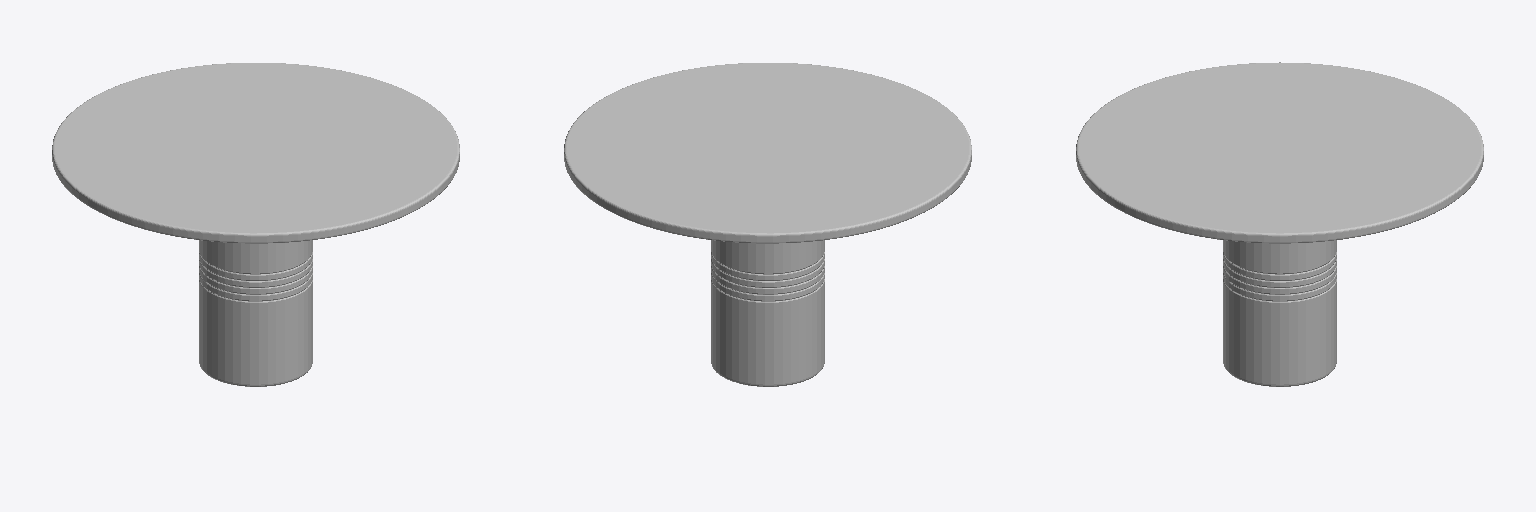
File: Table 110.obj
3 renders of one model, left to right at view 1: azimuth 30°, elevation 25°; view 2: azimuth 150°, elevation 25°; view 3: azimuth 270°, elevation 25°, orthographic.
Visible parts, largest first — view 1: Table_110; view 2: Table_110; view 3: Table_110.
Part boxes in pixels (x1,y1,x2,y2): Table_110: (52,63,459,386); Table_110: (564,63,971,386); Table_110: (1076,62,1483,386).
Bounding box in the file's own units: 75.88 × 44.33 × 75.88.